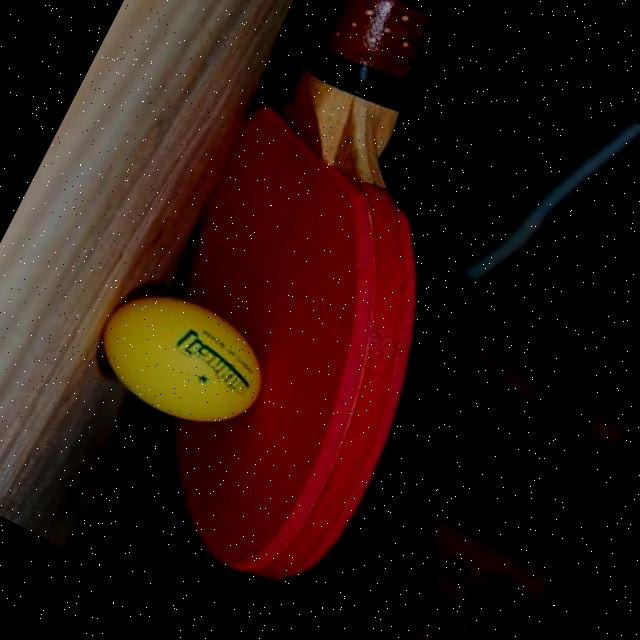ping-pong-ball: (78, 267, 286, 448)
